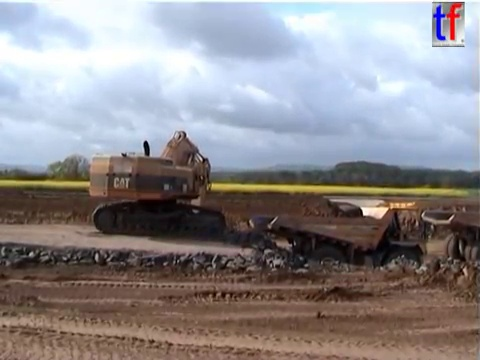excavator: (86, 128, 228, 241)
truck: (246, 200, 435, 290), (419, 208, 480, 272)
